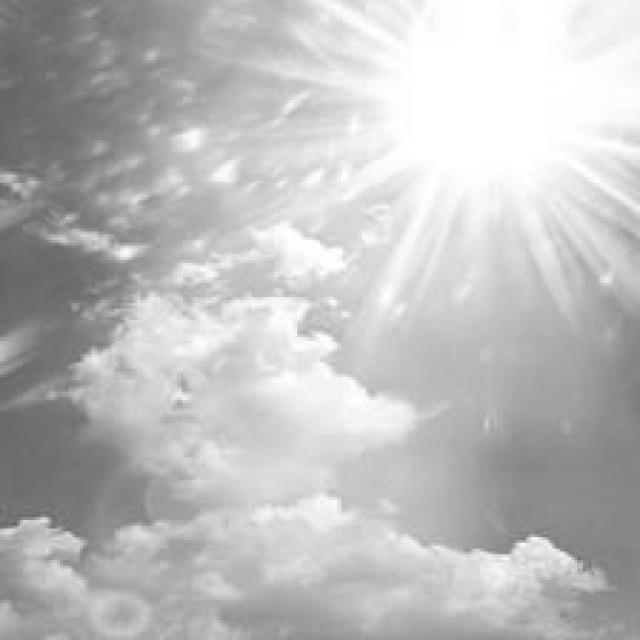sun: (254, 0, 640, 412)
